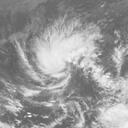cyclone: (34, 33, 90, 81)
